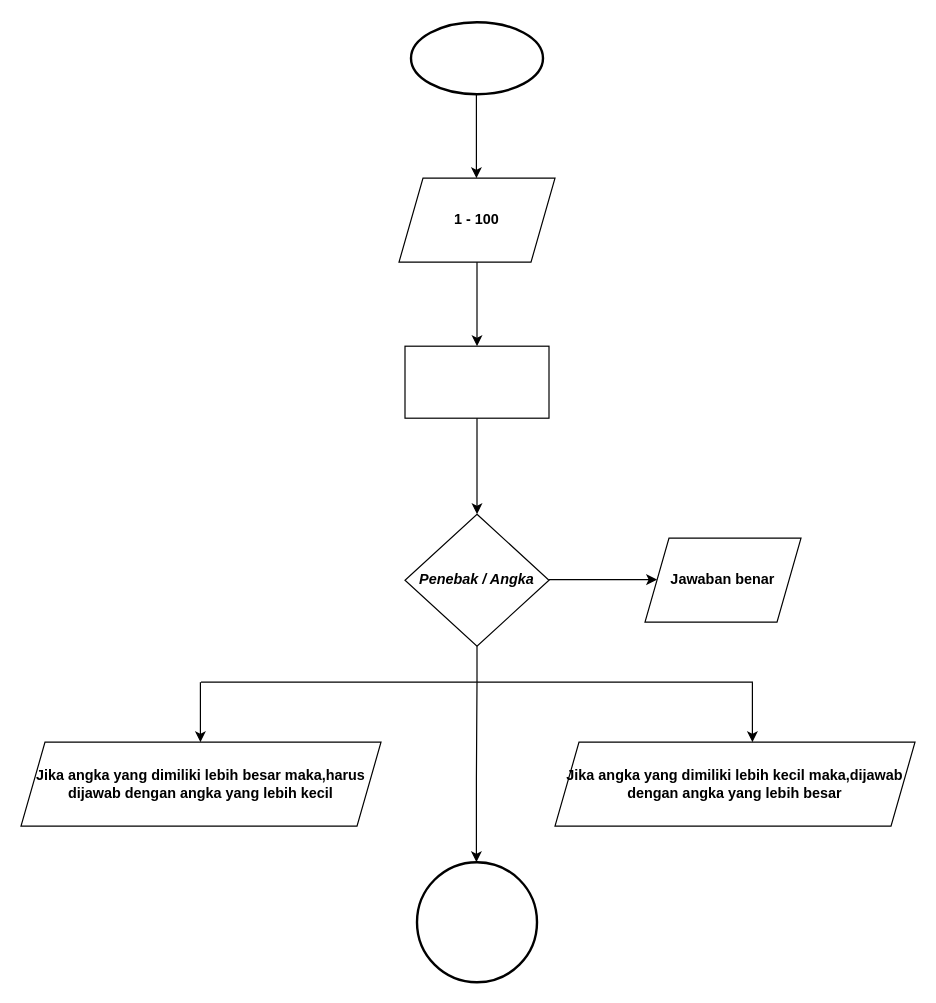
Image size: 936x1003. Some labels were removed from this diagram. Each missing label, with the centre of its shape:
"END" goes at point (476, 921).
"Proses" goes at point (476, 381).
"Start" goes at point (476, 57).
